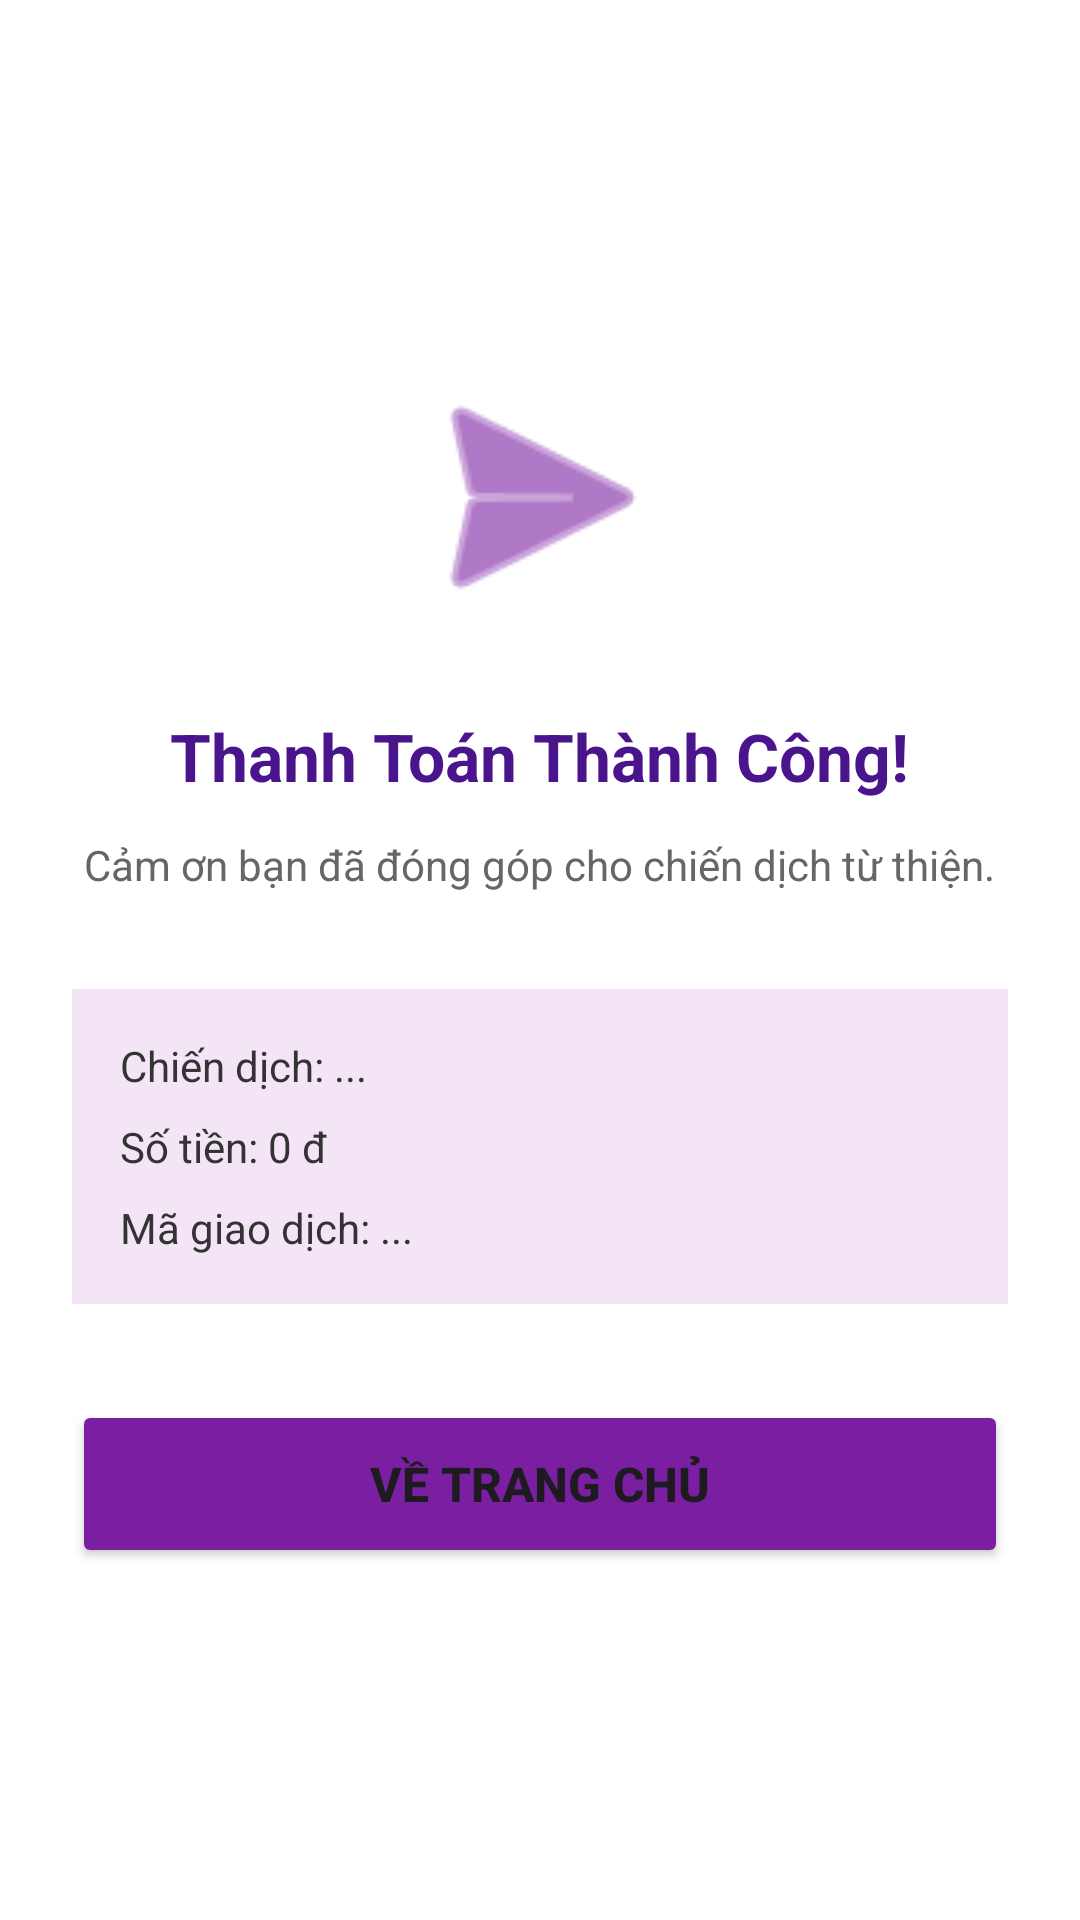

Where to tap for icons on this 1080px x 1920px app screen, as (x=x, y=y):
send: (x=542, y=497)
